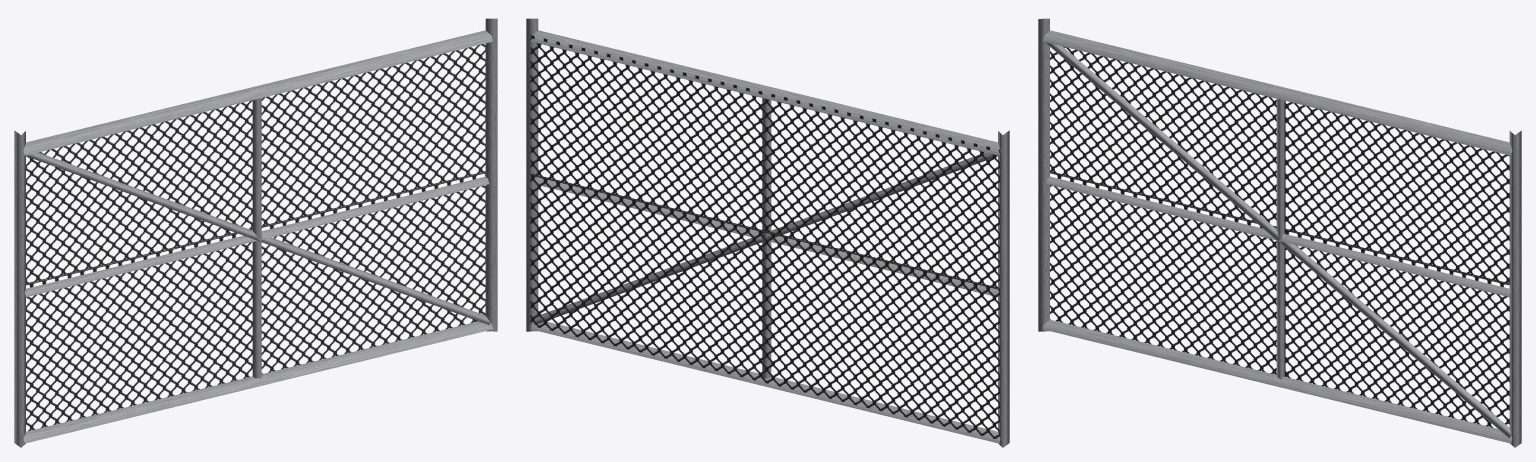
The model's file is fence-tall-gate-3m-RH-cbj_LOD03.gltf.
3 renders of one model, left to right at view 1: azimuth 30°, elevation 25°; view 2: azimuth 150°, elevation 25°; view 3: azimuth 330°, elevation 25°, orthographic.
Parts seen in each view (by area): view 1: gate3; view 2: gate3; view 3: gate3.
Boxes of the visible parts, x1,y1,x2,y2 form: gate3: [14, 18, 497, 447]; gate3: [526, 18, 1009, 447]; gate3: [1038, 18, 1521, 447].
Size of what is drawn, in the model's own units: 2.95 by 1.85 by 0.0731.
